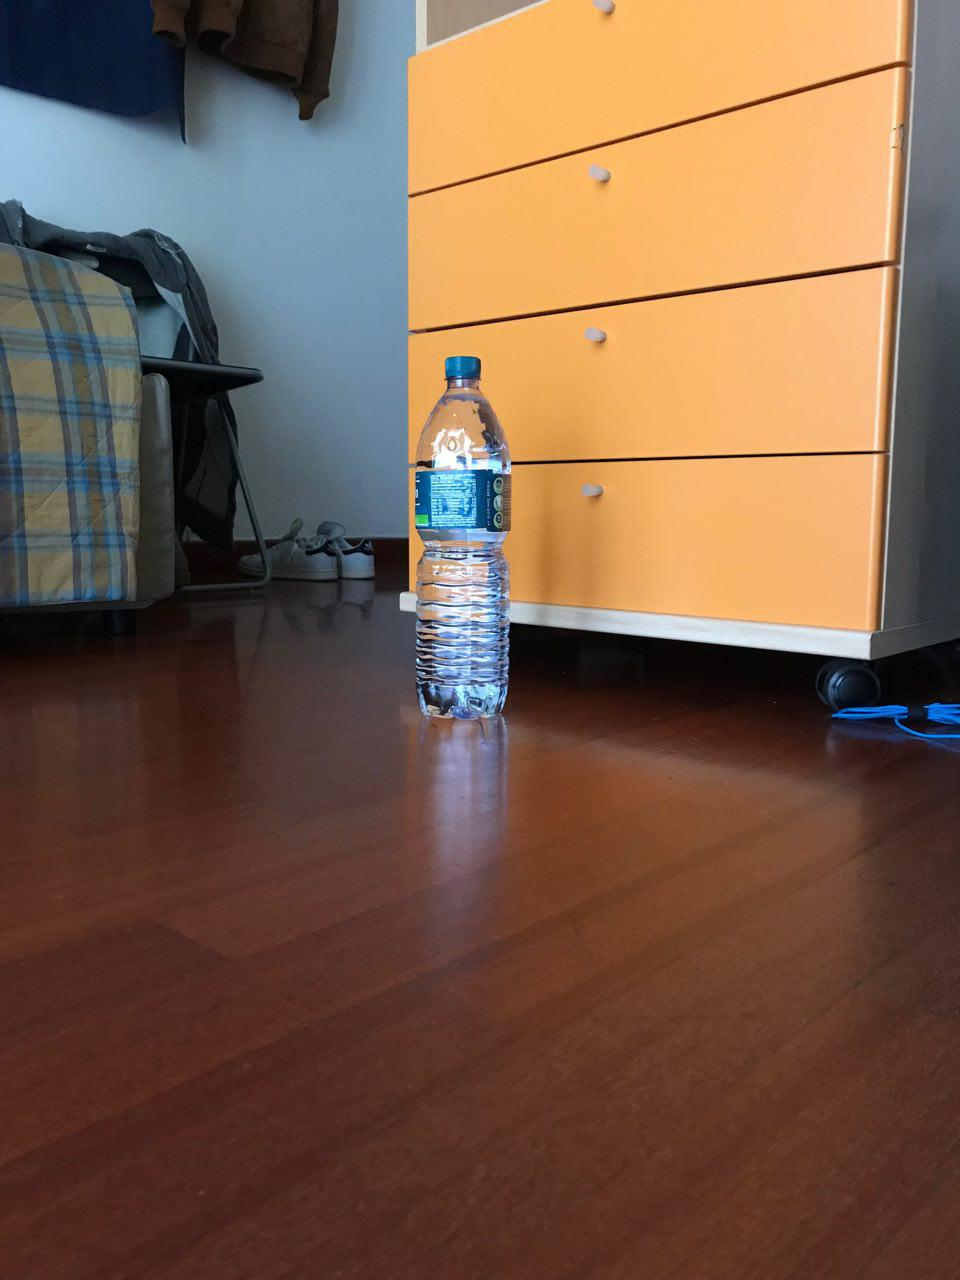san_bernardo: (413, 356, 513, 721)
